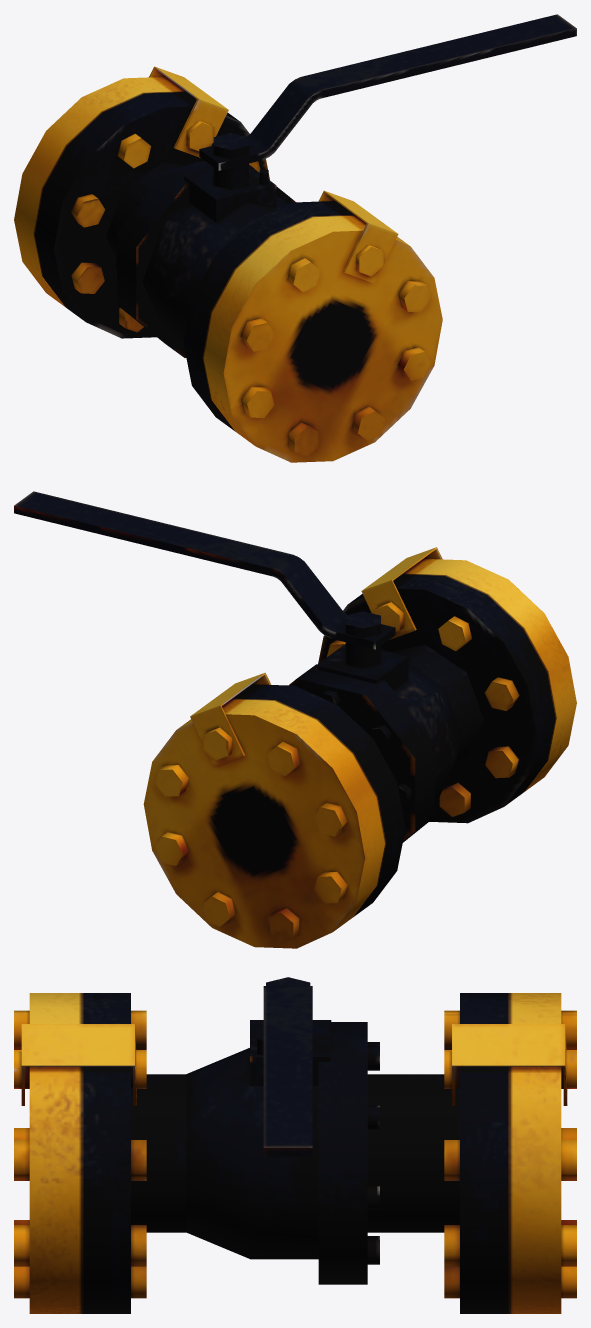
Rendered from ManualValve8S1IN.fbx.
The picture shows the model from 3 angles, top to bottom: view 1: azimuth 30°, elevation 25°; view 2: azimuth 150°, elevation 25°; view 3: azimuth 270°, elevation 25°; orthographic projection. The views are drawn at different scales.
Parts seen in each view (by area): view 1: Body, Handle; view 2: Body, Handle; view 3: Body, Handle.
Boxes of the visible parts, bbox=[...] form: Body: bbox=[14, 66, 442, 462]; Handle: bbox=[199, 14, 576, 189]; Body: bbox=[143, 547, 576, 948]; Handle: bbox=[14, 491, 395, 668]; Body: bbox=[14, 993, 576, 1313]; Handle: bbox=[263, 977, 312, 1157].
Size of the model in its own units: 44.19 by 26.84 by 38.1.
1 material, 1 textured.
